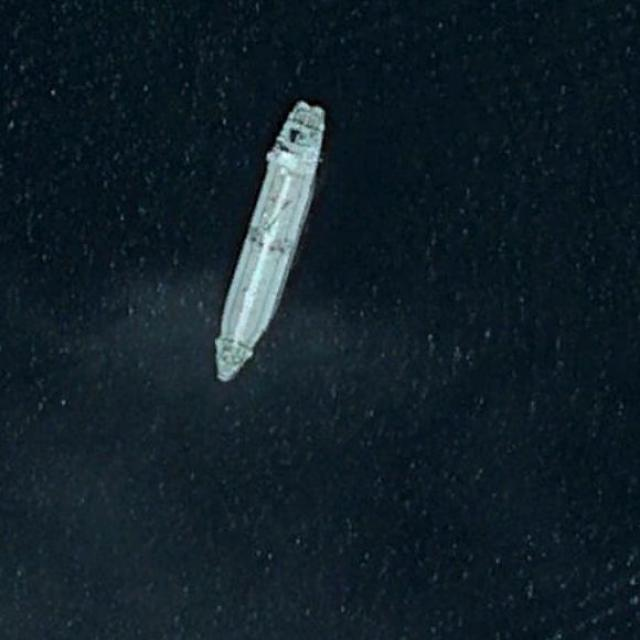ship: (212, 98, 325, 382)
